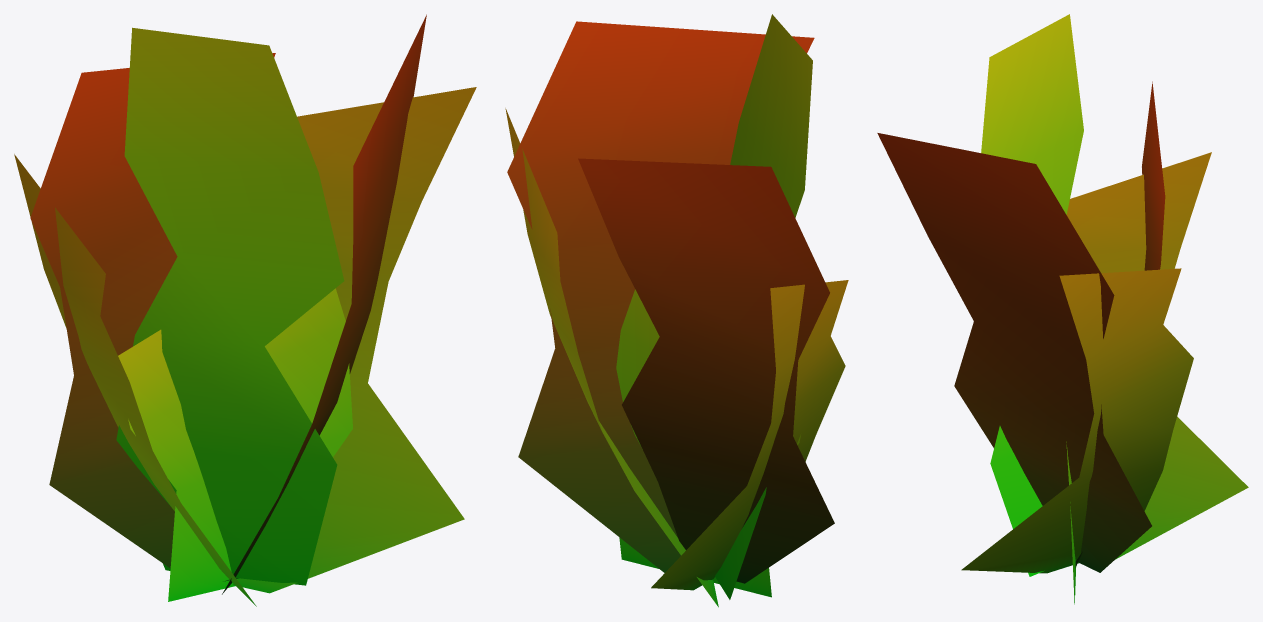
File: Var8Hi53.fbx
The picture shows the model from 3 angles, left to right: view 1: azimuth 30°, elevation 25°; view 2: azimuth 150°, elevation 25°; view 3: azimuth 270°, elevation 25°; orthographic projection. The views are drawn at different scales.
Parts seen in each view (by area): view 1: bend1; view 2: bend1; view 3: bend1.
Part boxes in pixels (x1,y1,x2,y2): bend1: [14, 14, 476, 606]; bend1: [505, 14, 848, 607]; bend1: [877, 14, 1248, 604].
Size of the model in its own units: 1.26 by 1.77 by 1.17.
